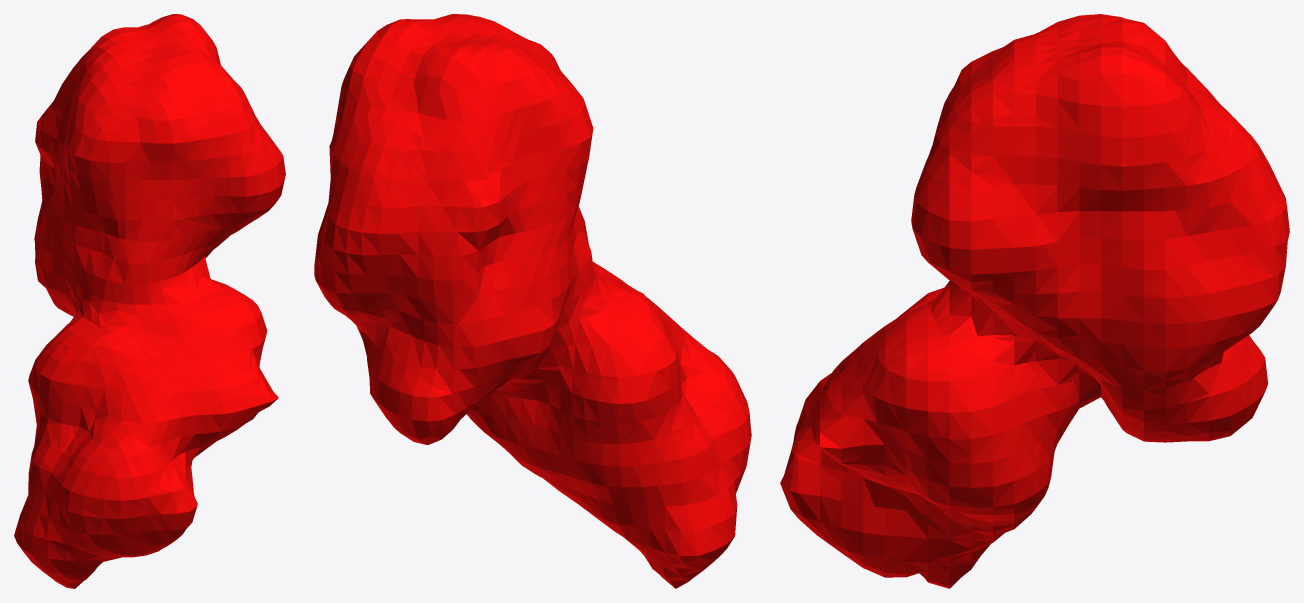
The model's file is lldR_coarse.dae.
3 renders of one model, left to right at view 1: azimuth 30°, elevation 25°; view 2: azimuth 150°, elevation 25°; view 3: azimuth 270°, elevation 25°, orthographic. The views are drawn at different scales.
Parts seen in each view (by area): view 1: lldR; view 2: lldR; view 3: lldR.
Boxes of the visible parts, x1=… form: lldR: x1=14, y1=14, x2=285, y2=588; lldR: x1=314, y1=14, x2=751, y2=588; lldR: x1=780, y1=14, x2=1289, y2=588.
Size of the model in its own units: 44.16 by 76.73 by 54.46.
